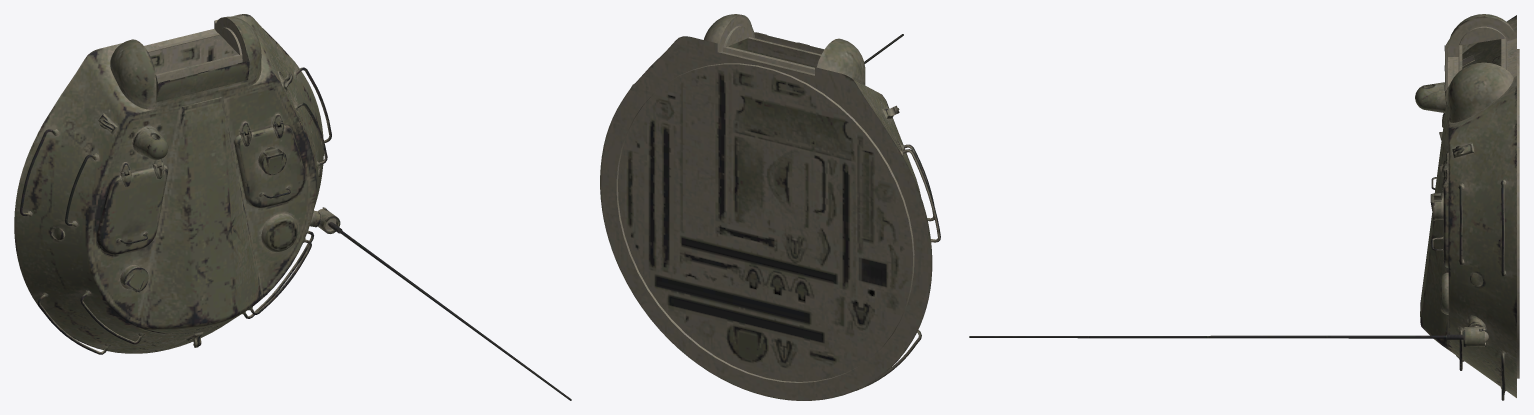
File: Turret_01.glb
3 renders of one model, left to right at view 1: azimuth 30°, elevation 25°; view 2: azimuth 150°, elevation 25°; view 3: azimuth 270°, elevation 25°, orthographic. The views are drawn at different scales.
Visible parts, largest first — view 1: set_0_group_0; view 2: set_0_group_0; view 3: set_0_group_0.
Boxes of the visible parts, box(x1,y1,x2,y2) form: set_0_group_0: box(14, 14, 571, 400); set_0_group_0: box(600, 14, 940, 400); set_0_group_0: box(969, 14, 1519, 400).
Bounding box in the file's own units: 2.3 × 2.33 × 3.41.
Materials: 1 (1 with a texture image).
